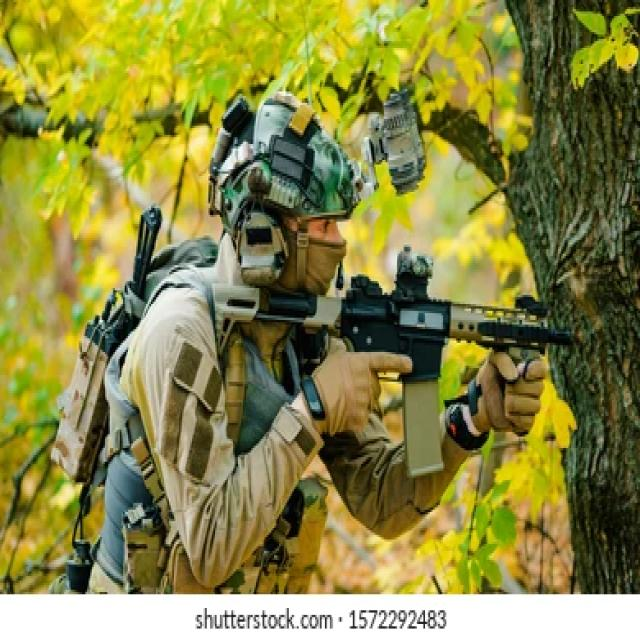soldier: (54, 83, 576, 595)
